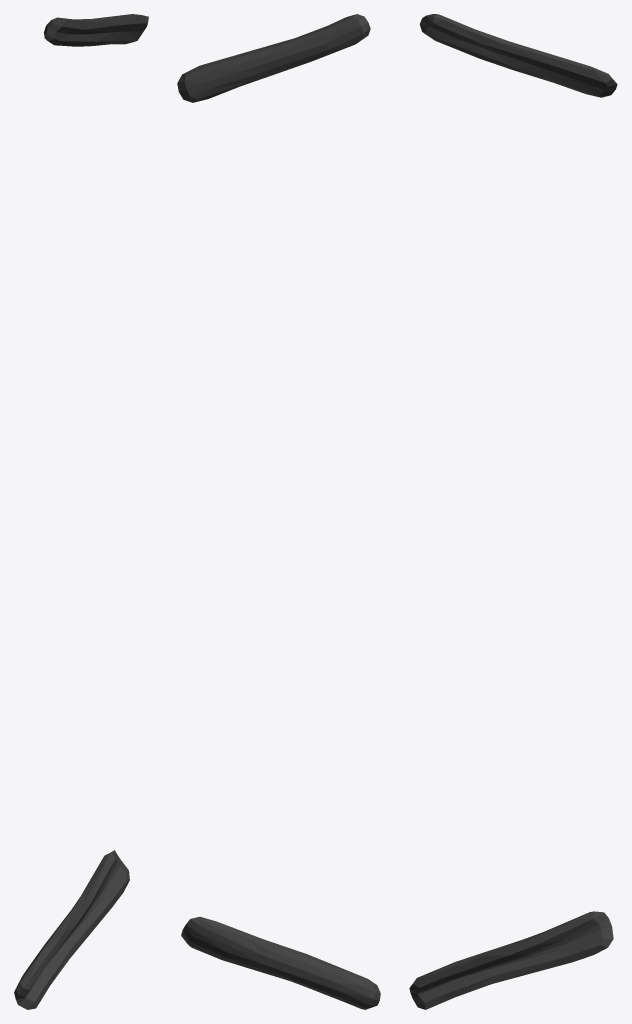
The model's file is Pelvis_ventral_iliac_spine.glb.
3 views of the same model, side by side, from view 1: azimuth 30°, elevation 25°; view 2: azimuth 150°, elevation 25°; view 3: azimuth 330°, elevation 25° (orthographic). The views are drawn at different scales.
Parts seen in each view (by area): view 1: Pelvis_ventral_iliac_spine; view 2: Pelvis_ventral_iliac_spine; view 3: Pelvis_ventral_iliac_spine.
Part boxes in pixels (x1,y1,x2,y2): Pelvis_ventral_iliac_spine: (14,14,148,1009); Pelvis_ventral_iliac_spine: (177,14,380,1009); Pelvis_ventral_iliac_spine: (409,14,617,1009).
Bounding box in the file's own units: 0.8126 × 4.57 × 0.4972.
1 material, 1 textured.
